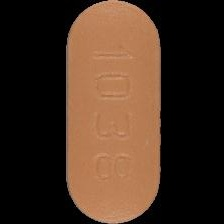21695-095: (0, 0, 224, 224)
